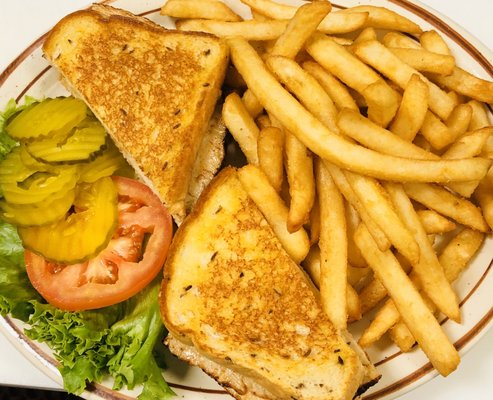soup: (158, 164, 382, 396), (40, 4, 230, 223)
